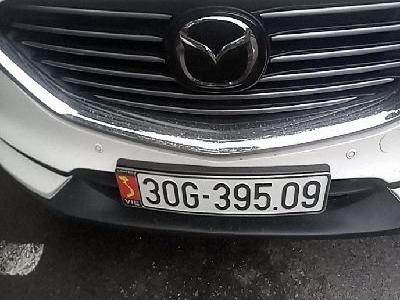number: (116, 167, 330, 218)
